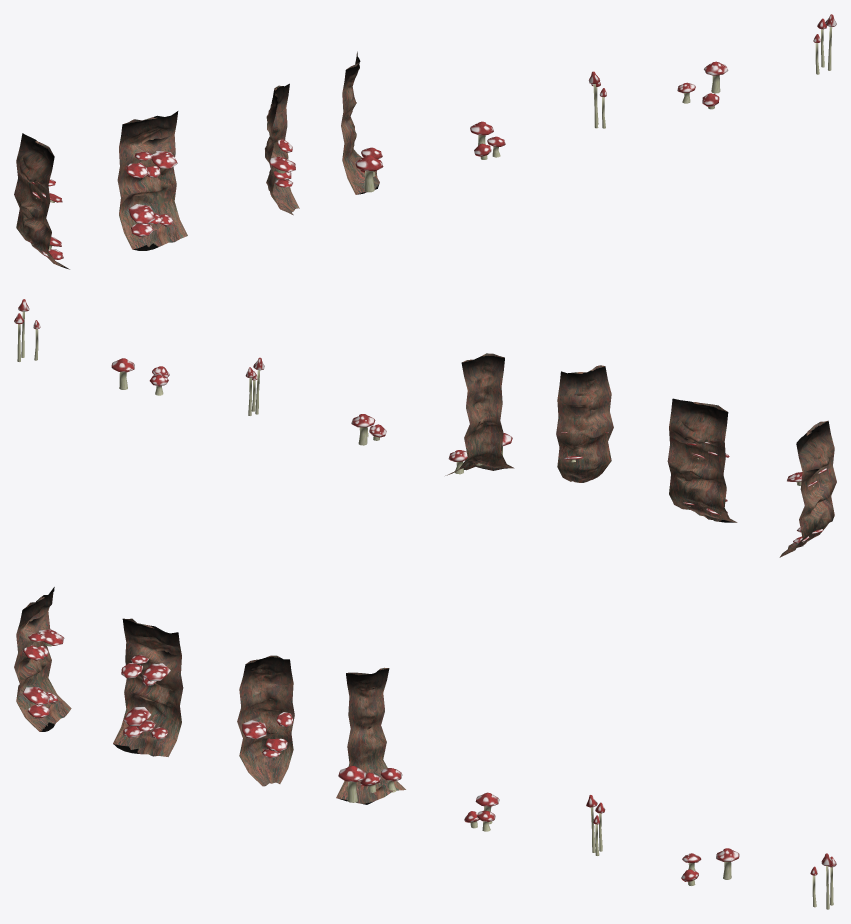
Rendered from cave_shrooms.glb.
The picture shows the model from 3 angles, top to bottom: view 1: azimuth 30°, elevation 25°; view 2: azimuth 150°, elevation 25°; view 3: azimuth 330°, elevation 25°; orthographic projection.
Visible parts, largest first — view 1: cave_straight_shr2, cave_straight_shrooms, cave_concave_shrooms, cave_convex_shrooms, shrooms2, floor_shroom3, floor_shroom1, shrooms3, shrooms4, floor_shroom4; view 2: cave_straight_shr2, cave_concave_shrooms, cave_convex_shrooms, cave_straight_shrooms, floor_shroom3, floor_shroom4, floor_shroom1, floor_shroom2; view 3: cave_straight_shr2, cave_concave_shrooms, cave_convex_shrooms, cave_straight_shrooms, shrooms2, shrooms1, shrooms4, shrooms3, floor_shroom3, floor_shroom1, floor_shroom4, floor_shroom2.
Boxes of the visible parts, x1,y1,x2,y2 form: cave_straight_shr2: (117, 111, 187, 250); cave_straight_shrooms: (14, 133, 69, 269); cave_concave_shrooms: (265, 83, 299, 215); cave_convex_shrooms: (341, 51, 379, 194); shrooms2: (126, 151, 177, 236); floor_shroom3: (677, 61, 728, 109); floor_shroom1: (470, 121, 505, 159); shrooms3: (270, 139, 295, 187); shrooms4: (355, 147, 383, 192); floor_shroom4: (813, 14, 836, 74); cave_straight_shr2: (667, 398, 737, 522); cave_concave_shrooms: (556, 365, 613, 482); cave_convex_shrooms: (445, 353, 514, 475); cave_straight_shrooms: (779, 420, 836, 557); floor_shroom3: (111, 358, 169, 395); floor_shroom4: (14, 299, 40, 361); floor_shroom1: (351, 414, 386, 445); floor_shroom2: (245, 357, 264, 415); cave_straight_shr2: (113, 618, 183, 756); cave_concave_shrooms: (237, 655, 294, 786); cave_convex_shrooms: (336, 667, 405, 804); cave_straight_shrooms: (14, 587, 71, 731); shrooms2: (121, 654, 170, 739); shrooms1: (22, 629, 64, 717); shrooms4: (338, 765, 402, 802); shrooms3: (242, 712, 293, 757); floor_shroom3: (681, 848, 739, 885); floor_shroom1: (464, 792, 499, 831); floor_shroom4: (810, 853, 836, 909); floor_shroom2: (586, 795, 605, 855).
Size of the model in its own units: 28.99 by 4.28 by 2.32.
Materials: 2 (2 with a texture image).
